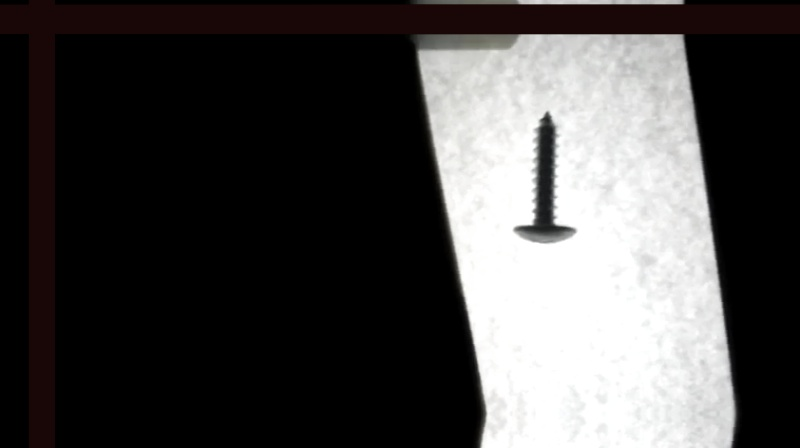S003: (506, 109, 578, 246)
